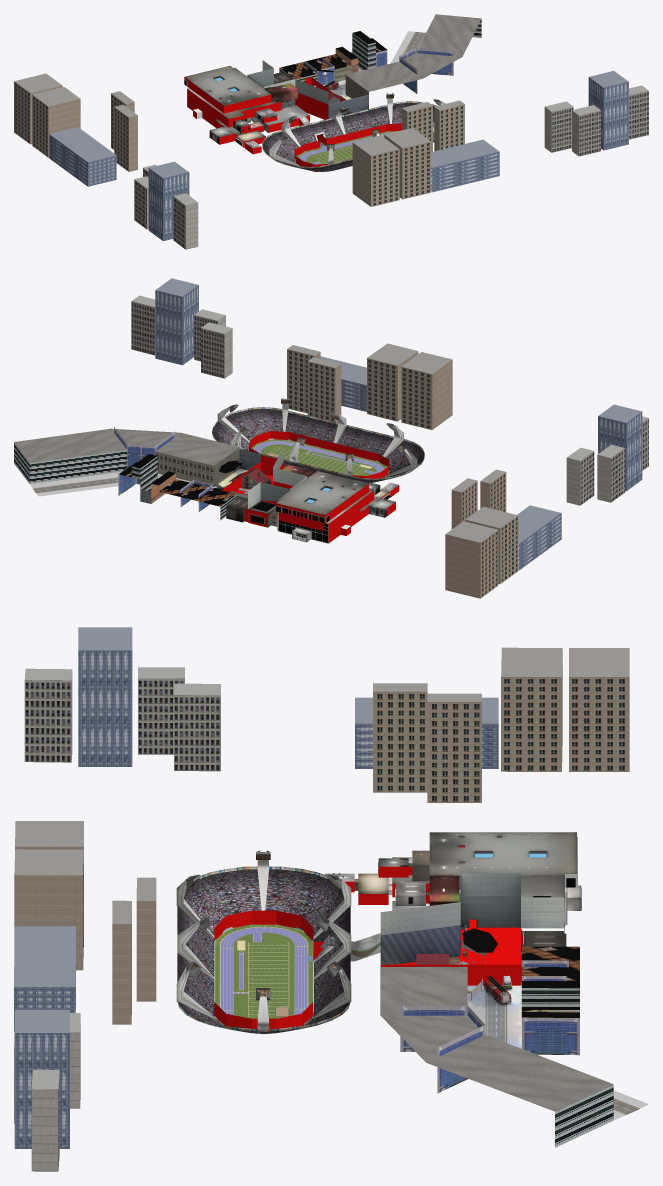
File: college.glb
The picture shows the model from 3 angles, top to bottom: view 1: azimuth 30°, elevation 25°; view 2: azimuth 150°, elevation 25°; view 3: azimuth 270°, elevation 25°; orthographic projection. The views are drawn at different scales.
Visible parts, largest first — view 1: BoltonCollege, Buildings__2_, Buildings__1_, BoltonCollege_PROXY, Buildings1; view 2: BoltonCollege, Buildings__2_, Buildings__1_, BoltonCollege_PROXY, Buildings1, Construction_House_1; view 3: BoltonCollege, Buildings__1_, Buildings__2_, BoltonCollege_PROXY, Buildings1.
Boxes of the visible parts, box(x1,y1,x2,y2) form: BoltonCollege: box(184, 14, 481, 171); Buildings__2_: box(352, 71, 648, 206); Buildings__1_: box(14, 73, 198, 249); BoltonCollege_PROXY: box(184, 77, 401, 171); Buildings1: box(279, 31, 387, 85); BoltonCollege: box(14, 398, 424, 543); Buildings__2_: box(131, 278, 452, 429); Buildings__1_: box(445, 404, 648, 598); BoltonCollege_PROXY: box(222, 431, 399, 542); Buildings1: box(118, 454, 237, 520); Construction_House_1: box(229, 467, 271, 489); BoltonCollege: box(176, 832, 648, 1147); Buildings__1_: box(24, 627, 629, 802); Buildings__2_: box(14, 821, 156, 1171); BoltonCollege_PROXY: box(214, 845, 522, 1029); Buildings1: box(521, 946, 579, 1055).
Size of what is drawn, in the model's own units: 234 by 32.75 by 146.
782 materials, 414 textured.
